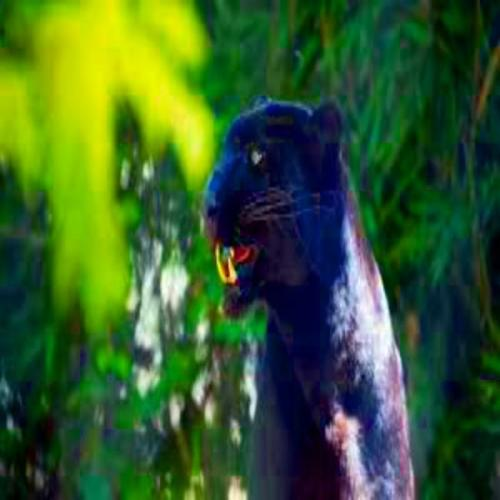panther-endangered: (204, 98, 416, 500)
